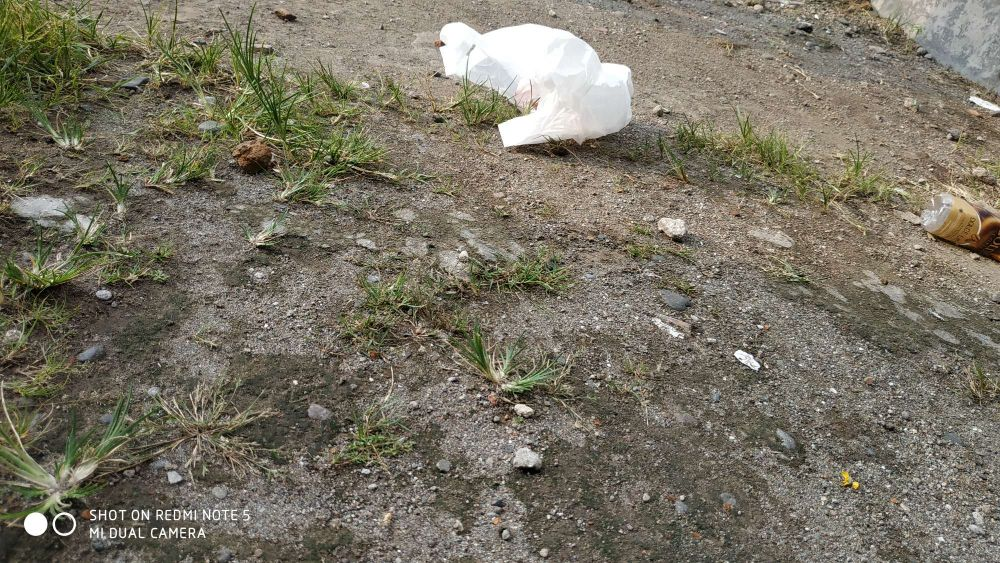plastik: (441, 2, 644, 159)
